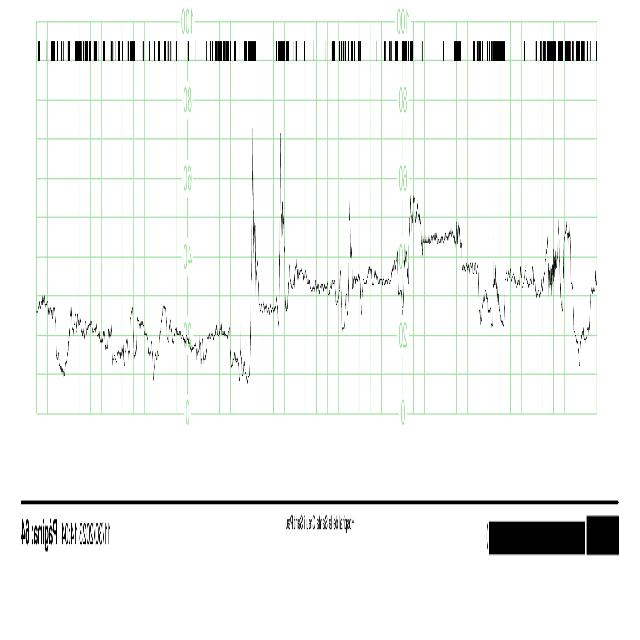contraction: (562, 220, 579, 349), (250, 133, 262, 315), (277, 139, 287, 299)
